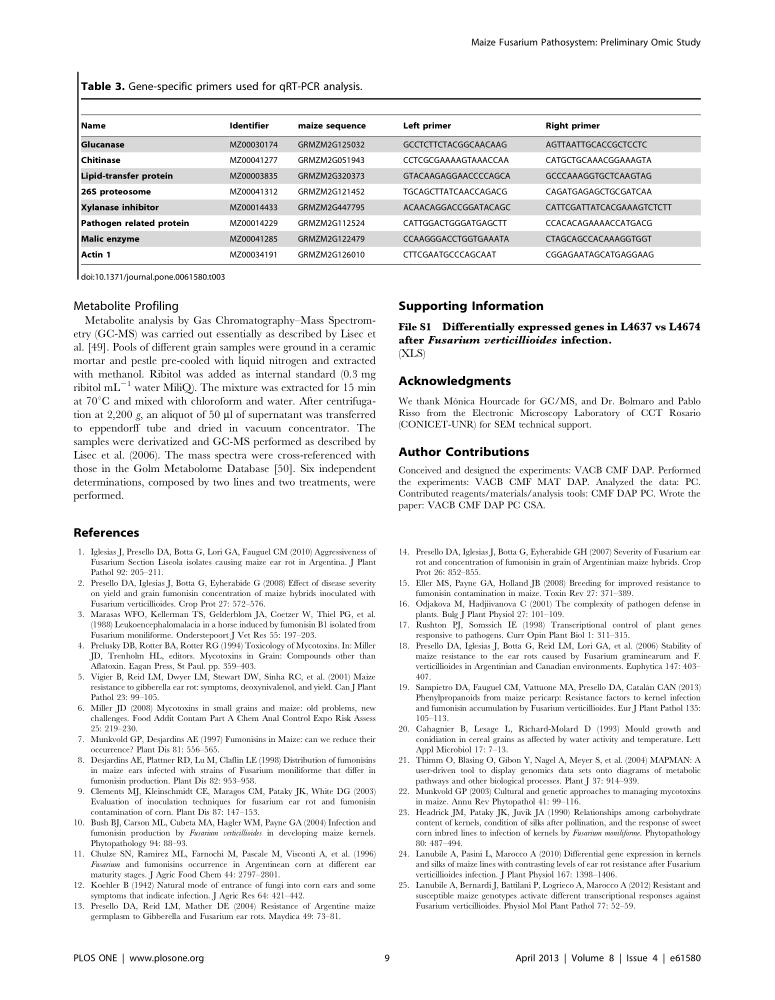table: (80, 121, 671, 259)
